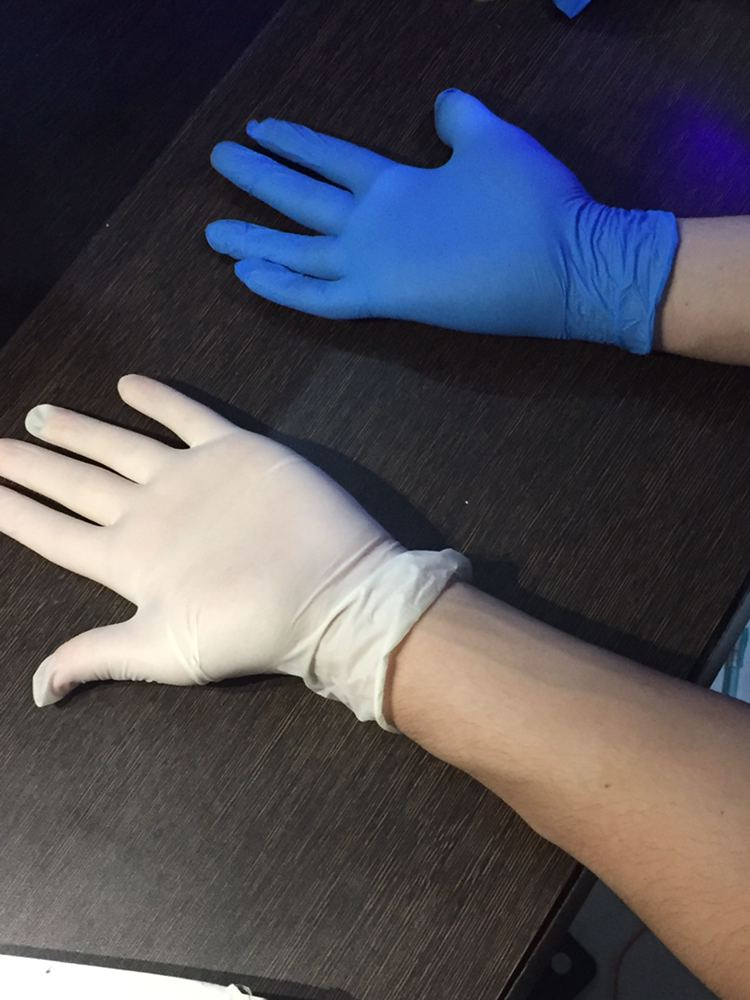glove: (201, 75, 652, 369)
